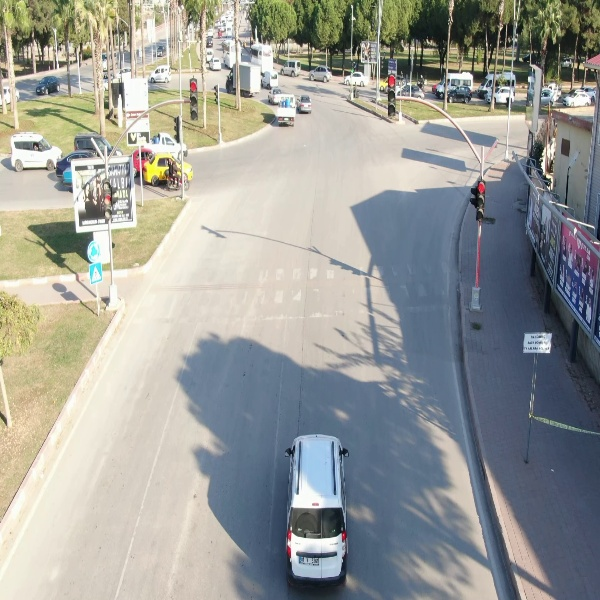car: (286, 431, 348, 594), (7, 129, 64, 172), (306, 63, 335, 87), (33, 74, 62, 96), (562, 89, 594, 108), (446, 84, 474, 104), (280, 57, 305, 78), (149, 64, 174, 85), (344, 72, 370, 87), (296, 93, 312, 116)
